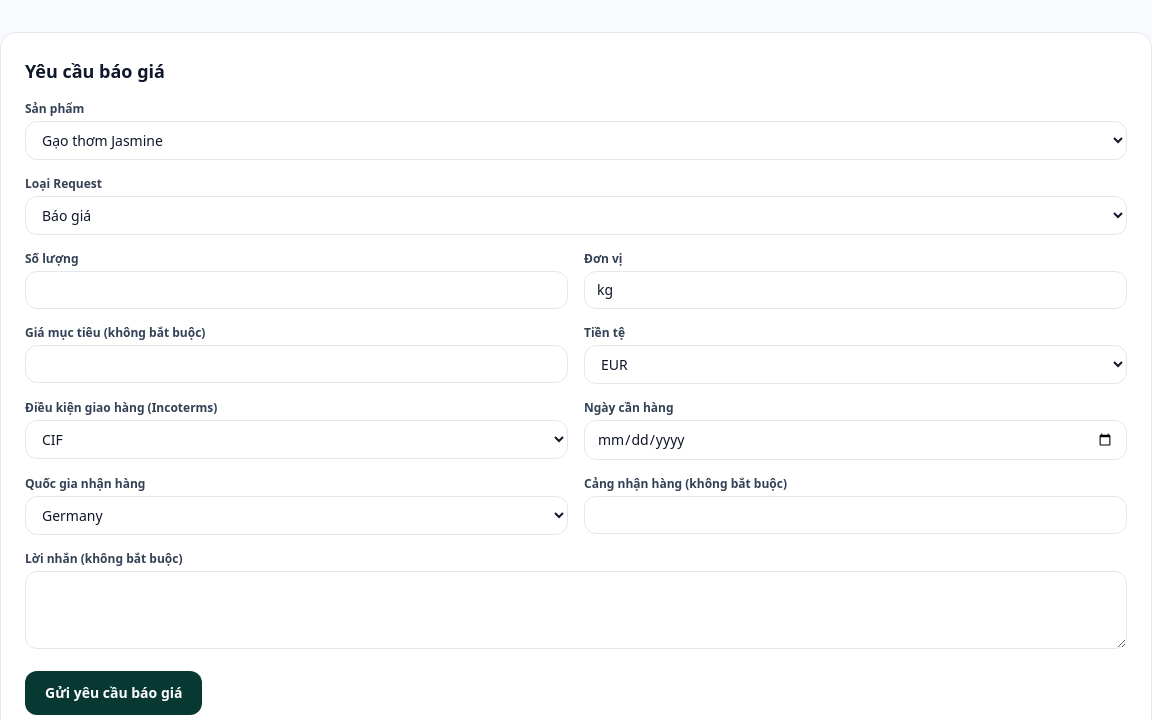
Test: Form yêu cầu báo giá (F1) › số lượng "0" bị chặn trước khi gọi API
Type "0" into the field labelled "Số lượng" at [296, 290], box [25, 271, 568, 309]
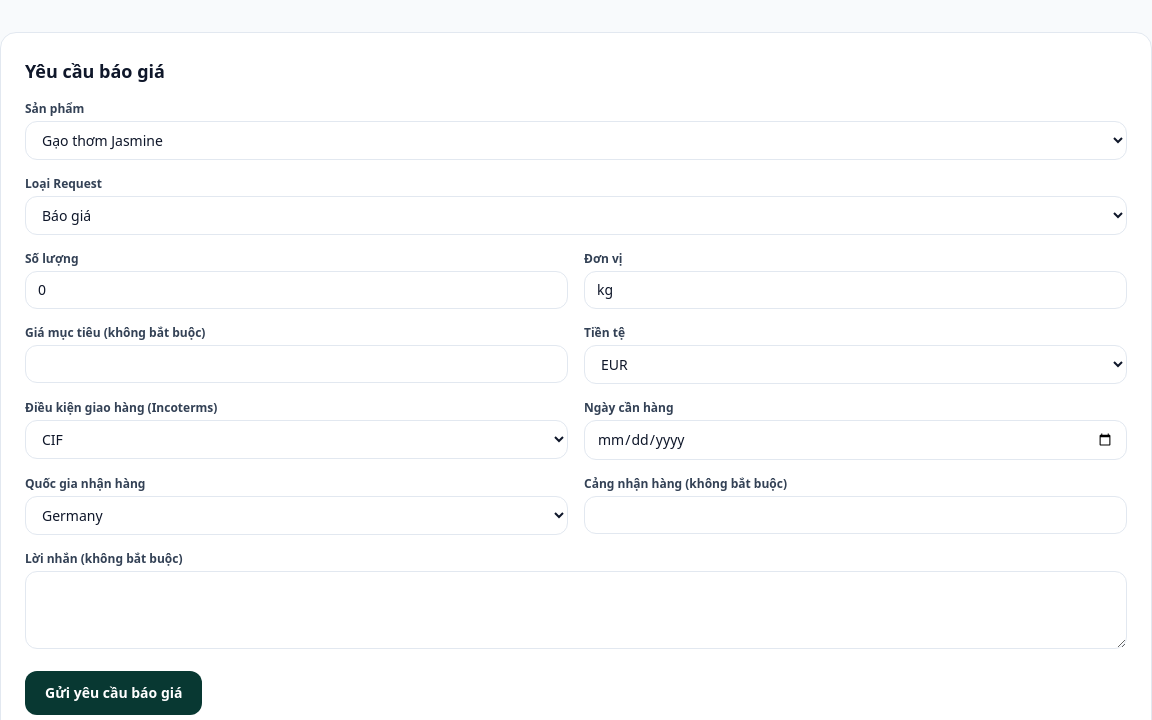
Type "2099-01-01" into the date field labelled "Ngày cần hàng" at [856, 440], box [584, 420, 1127, 460]
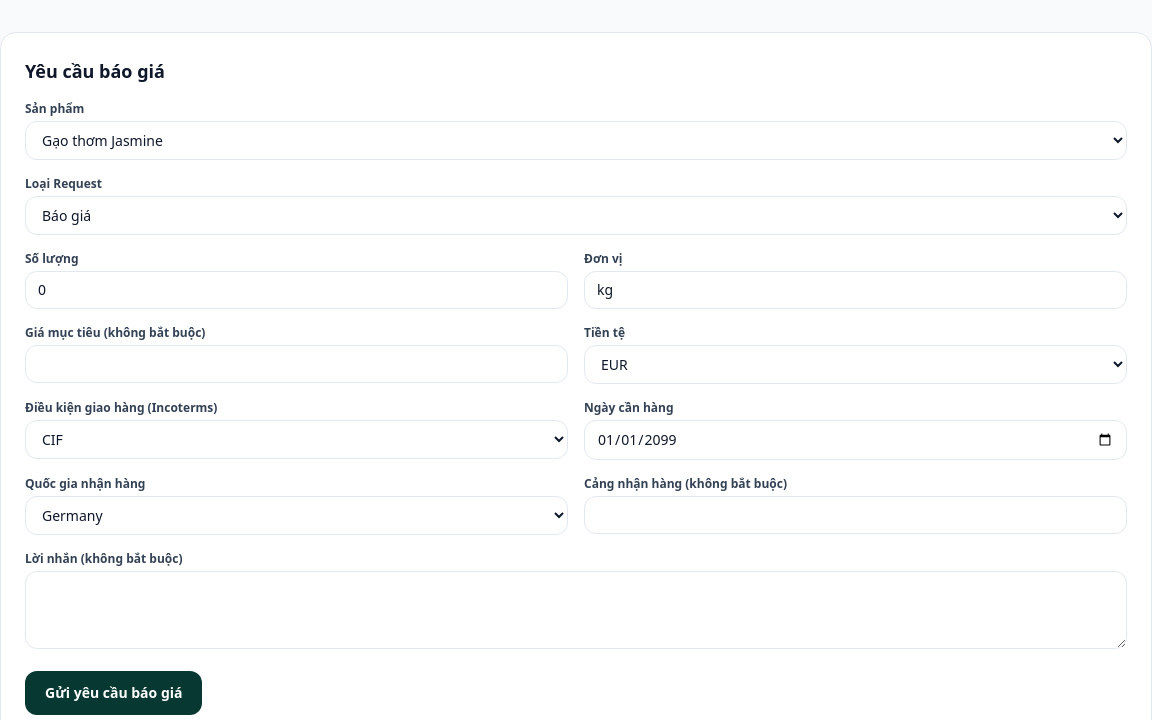
Click the button "Gửi yêu cầu báo giá" at [114, 693], box [25, 671, 202, 715]
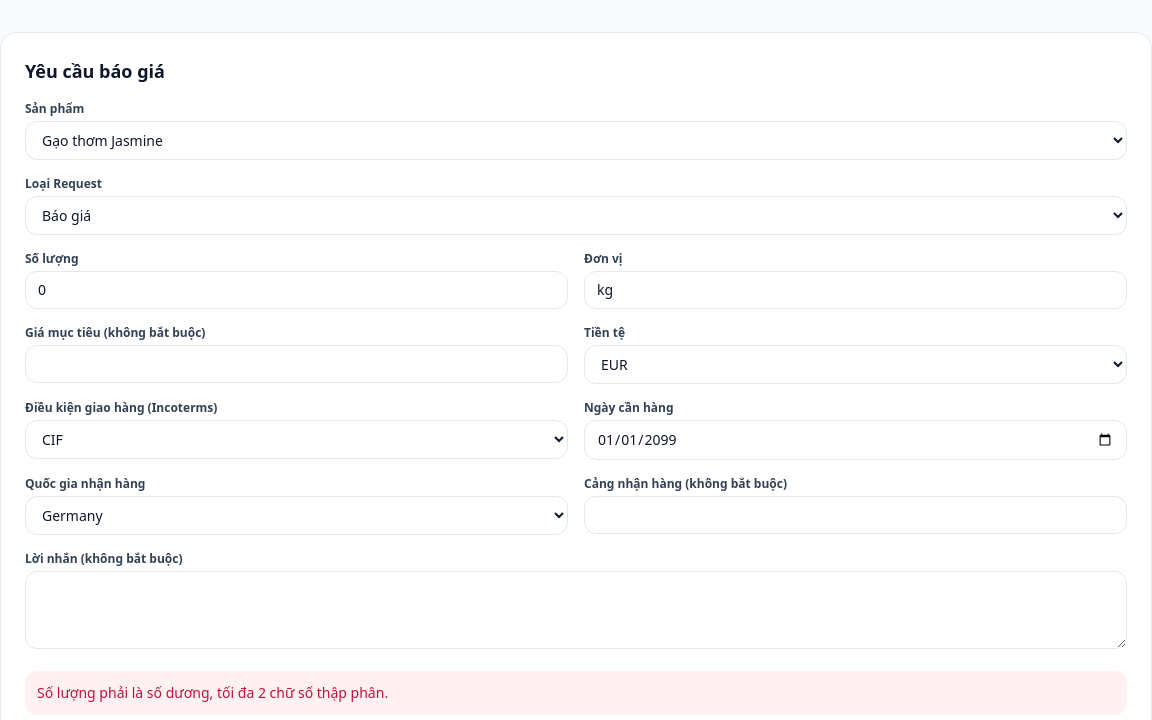
Now the message shows "Số lượng phải là số dương", box [37, 683, 388, 702]
